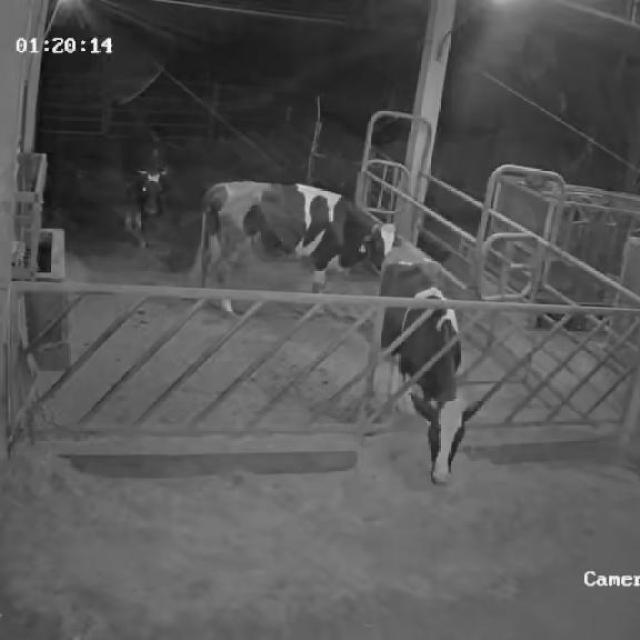feeding: (375, 237, 476, 489)
standing: (198, 173, 398, 319), (120, 124, 180, 255)
